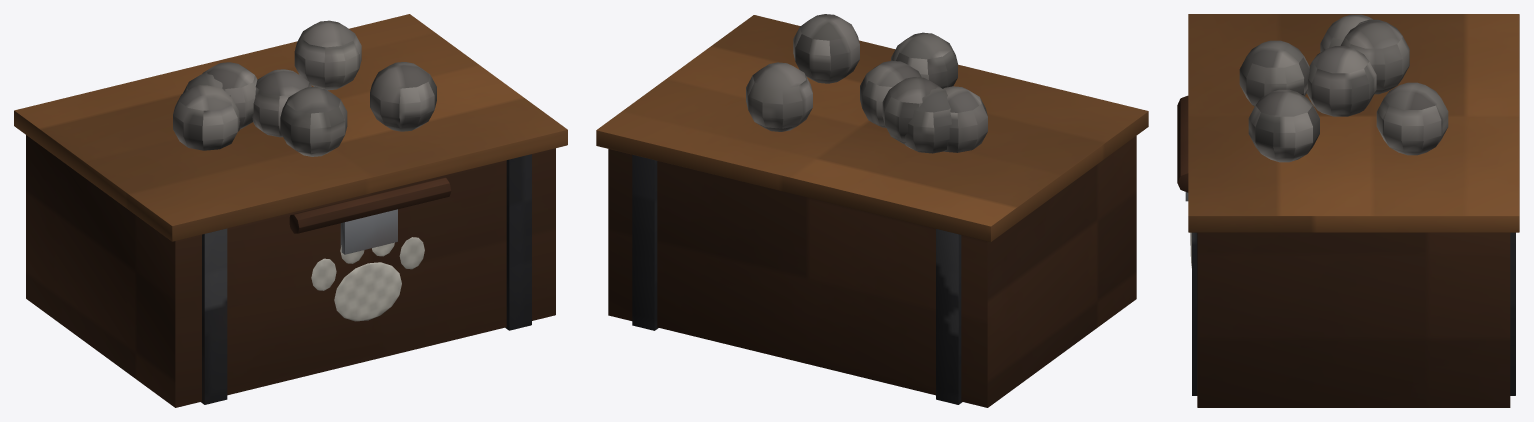
File: prop_ammo_box.glb
The picture shows the model from 3 angles, left to right: view 1: azimuth 30°, elevation 25°; view 2: azimuth 150°, elevation 25°; view 3: azimuth 270°, elevation 25°; orthographic projection. The views are drawn at different scales.
Visible parts, largest first — view 1: prop_ammo_box; view 2: prop_ammo_box; view 3: prop_ammo_box.
Boxes of the visible parts, x1=… form: prop_ammo_box: x1=14, y1=14, x2=567, y2=407; prop_ammo_box: x1=596, y1=14, x2=1148, y2=407; prop_ammo_box: x1=1177, y1=14, x2=1519, y2=407.
Size of the model in its own units: 0.52 by 0.3135 by 0.3719.
7 materials, 7 textured.
